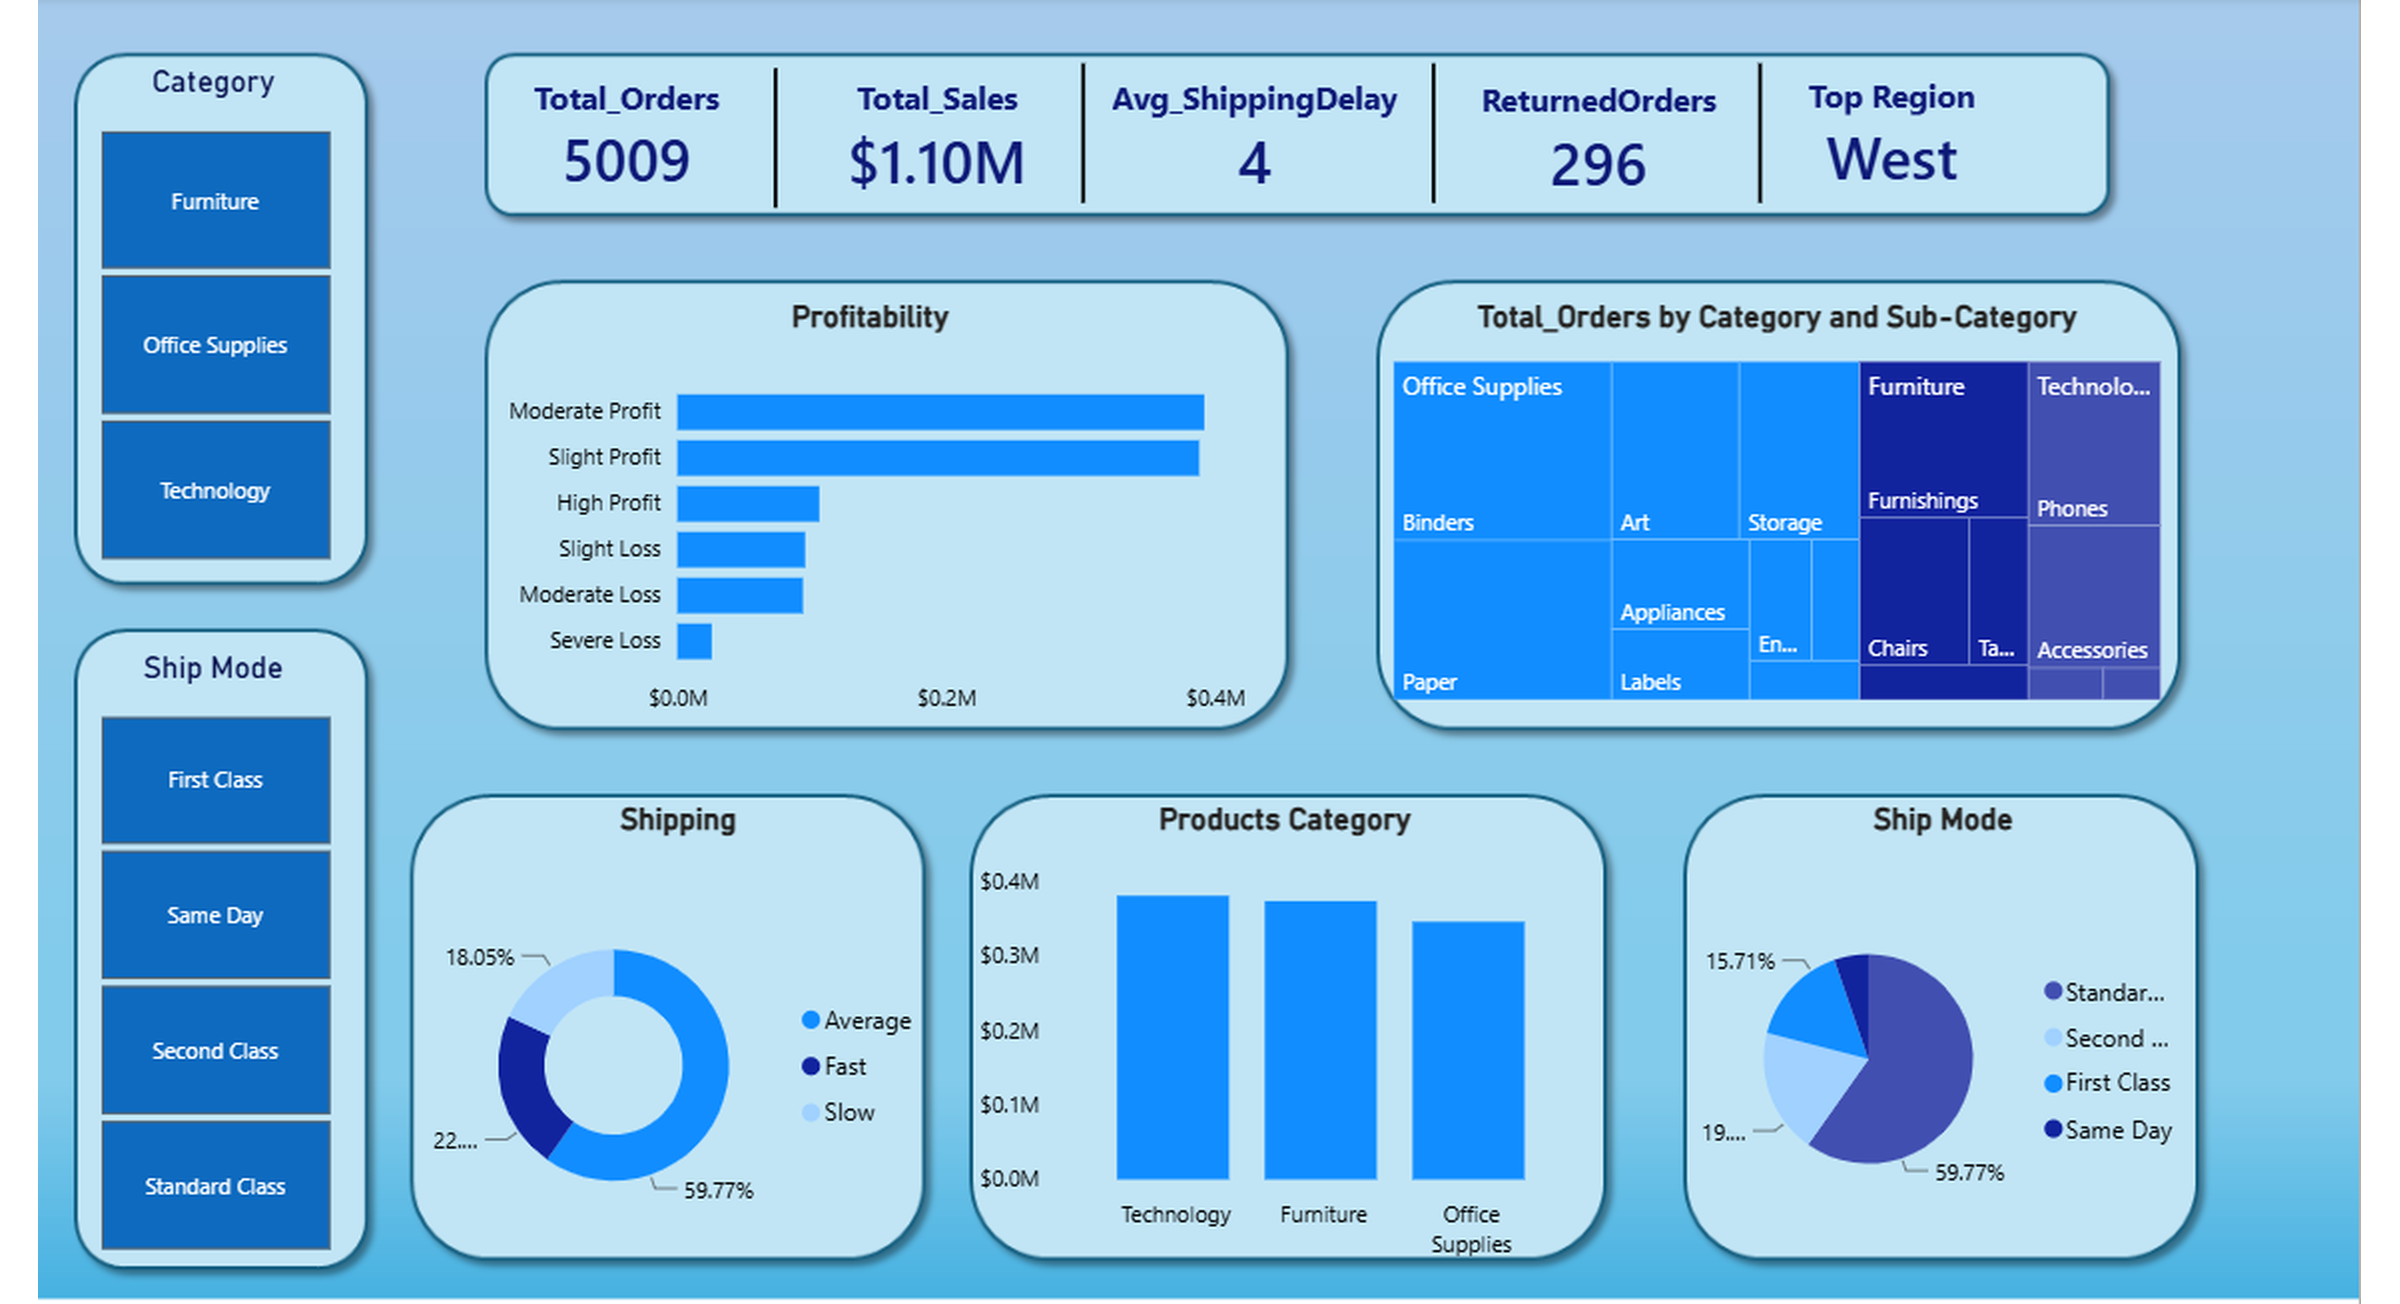

Layout of this report page (visuals, bound fields, positions):
{"tool":"powerbi","page":{"name":"Product analysis","canvas":[1280,720],"ordinal":1},"visuals":[{"type":"cardVisual","fields":{"Data":["Measures (2).Total_Sales"]},"box":[378.7,16.5,237.4,122.1],"z":0},{"type":"cardVisual","fields":{"Data":["Measures (2).Total_Orders"]},"box":[227.8,23.3,197.6,108.4],"z":1000},{"type":"cardVisual","fields":{"Data":["Measures (2).Avg_ShippingDelay"]},"box":[558.5,16.5,227.8,122.1],"z":2000},{"type":"cardVisual","fields":{"Data":["Measures (2).ReturnedOrders"]},"box":[757.5,30.2,208.6,97.4],"z":3000},{"type":"cardVisual","fields":{"Data":["Measures (2).Top Region"]},"box":[909.8,11,226.4,130.4],"z":4000},{"type":"shape","box":[354,39.8,108.4,76.8],"z":5000},{"type":"shape","box":[516,37,123.5,76.8],"z":6000},{"type":"shape","box":[703.9,37,133.1,76.8],"z":7000},{"type":"shape","box":[891.9,37,116.6,76.8],"z":8000},{"type":"slicer","title":"Category","fields":{"Values":["Orders.Category"]},"box":[11,37,175.6,279.9],"z":9000},{"type":"clusteredBarChart","title":"Profitability","fields":{"Y":["Measures (2).Total_Sales"],"Category":["Orders.ProfitabilityCategory"]},"box":[248.4,166,424,238.8],"z":10000},{"type":"clusteredColumnChart","title":"Products Category","fields":{"Y":["Measures (2).Total_Sales"],"Category":["Orders.Category"]},"box":[516,443.2,345.8,259.3],"z":11000},{"type":"slicer","title":"Ship Mode","fields":{"Values":["Orders.Ship Mode"]},"box":[11,359.5,175.6,337.6],"z":12000},{"type":"pieChart","title":"Ship Mode","fields":{"Category":["Orders.Ship Mode"],"Y":["Measures (2).Total_Orders"]},"box":[909.8,443.2,282.7,253.9],"z":13000},{"type":"donutChart","title":"Shipping","fields":{"Y":["Measures (2).Total_Orders"],"Category":["Orders.ShippingDelay Category"]},"box":[211.3,443.2,286.8,260.7],"z":14000},{"type":"treemap","fields":{"Group":["Orders.Category"],"Details":["Orders.Sub-Category"],"Values":["Measures (2).Total_Orders"]},"box":[743.7,166,432.2,226.4],"z":15000}]}

Visuals, with their boxes on the page's 1280x720 design canvas (x1, y1, x2, y2). These are canvas units, not pixel positions in the 2400x1304 screenshot, which may show the page scaled, cropped or inside an application window:
cardVisual - Measures (2).Total_Sales: [x1=379, y1=16, x2=616, y2=139]
cardVisual - Measures (2).Total_Orders: [x1=228, y1=23, x2=425, y2=132]
cardVisual - Measures (2).Avg_ShippingDelay: [x1=558, y1=16, x2=786, y2=139]
cardVisual - Measures (2).ReturnedOrders: [x1=758, y1=30, x2=966, y2=128]
cardVisual - Measures (2).Top Region: [x1=910, y1=11, x2=1136, y2=141]
shape: [x1=354, y1=40, x2=462, y2=117]
shape: [x1=516, y1=37, x2=640, y2=114]
shape: [x1=704, y1=37, x2=837, y2=114]
shape: [x1=892, y1=37, x2=1008, y2=114]
"Category" slicer: [x1=11, y1=37, x2=187, y2=317]
"Profitability" clusteredBarChart: [x1=248, y1=166, x2=672, y2=405]
"Products Category" clusteredColumnChart: [x1=516, y1=443, x2=862, y2=702]
"Ship Mode" slicer: [x1=11, y1=360, x2=187, y2=697]
"Ship Mode" pieChart: [x1=910, y1=443, x2=1192, y2=697]
"Shipping" donutChart: [x1=211, y1=443, x2=498, y2=704]
treemap - Orders.Category x Orders.Sub-Category: [x1=744, y1=166, x2=1176, y2=392]
